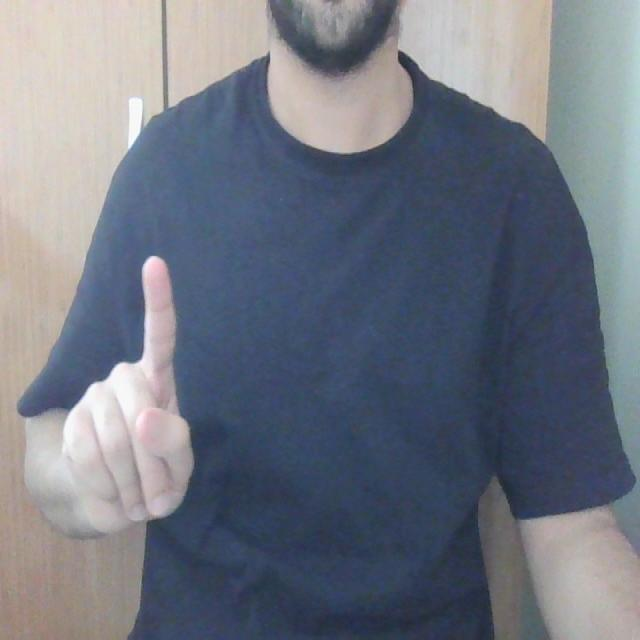Hayir: (62, 203, 219, 568)
